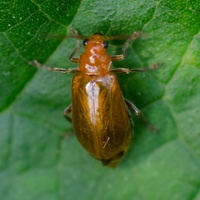insect: (29, 30, 160, 166)
